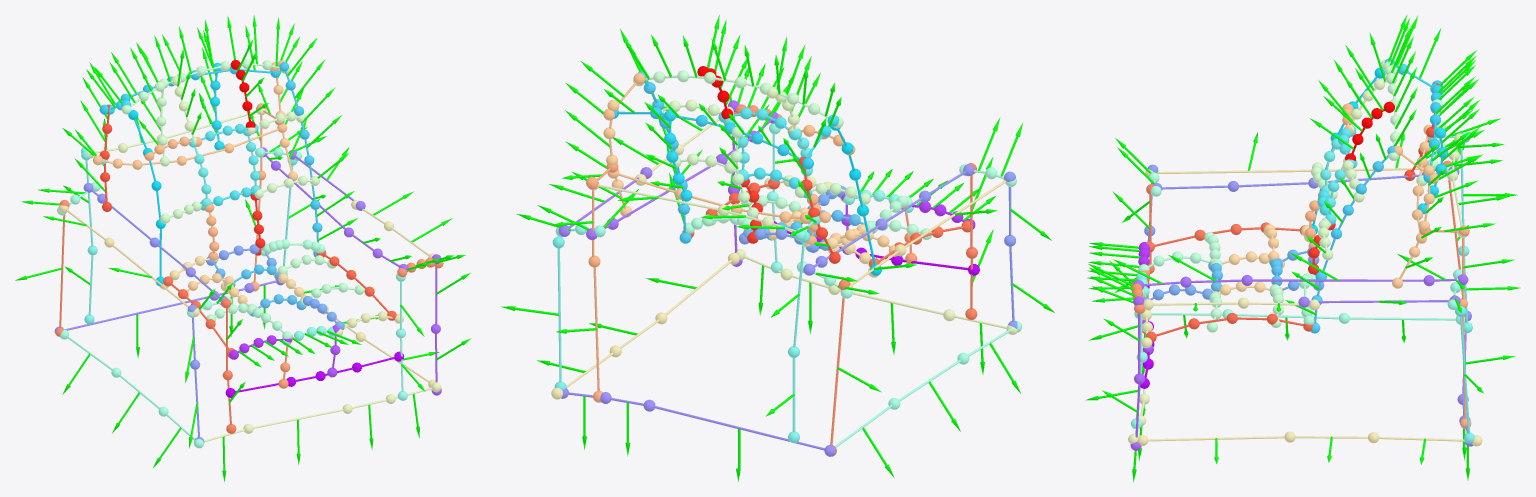
The model's file is author2_sofa.gltf.
The picture shows the model from 3 angles, left to right: view 1: azimuth 30°, elevation 25°; view 2: azimuth 150°, elevation 25°; view 3: azimuth 270°, elevation 25°; orthographic projection. The views are drawn at different scales.
Bounding box in the file's own units: 0.7214 × 0.7629 × 0.7779.
